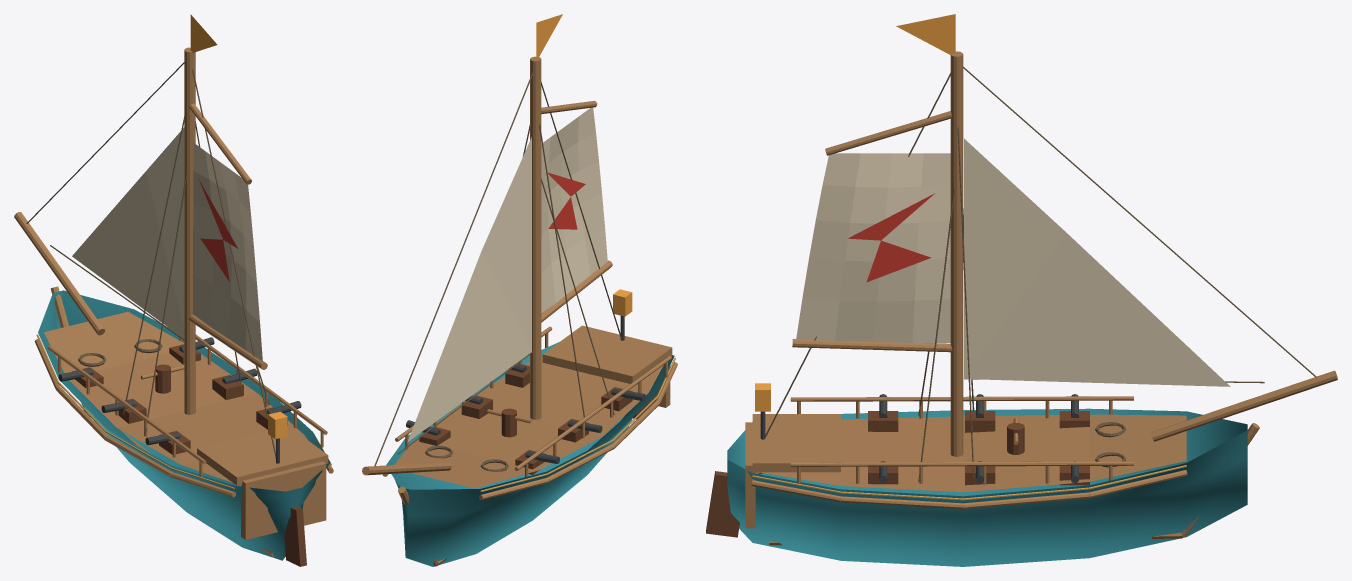
The model's file is caribbean-sloop.glb.
3 views of the same model, side by side, from view 1: azimuth 30°, elevation 25°; view 2: azimuth 150°, elevation 25°; view 3: azimuth 270°, elevation 25° (orthographic). The views are drawn at different scales.
Visible parts, largest first — view 1: Deck_Main, Sail_Jib, Hull, Sail_Main, Deck_Quarter, Mast_Main, Stern_Transom, Bowsprit, Rudder, Rail_Port, Sail_Mark_Port, Rail_Starboard (+12 smaller); view 2: Sail_Jib, Deck_Main, Hull, Sail_Main, Deck_Quarter, Mast_Main, Rail_Port, Sail_Mark_Port, Rig_Forestay, Bowsprit, Boom, Rig_Shroud_Port_1 (+10 smaller); view 3: Hull, Sail_Jib, Sail_Main, Deck_Main, Mast_Main, Deck_Quarter, Sail_Mark_Starboard, Bowsprit, Rail_Starboard, Rail_Port, Rudder, Boom (+6 smaller).
Part boxes in pixels (box(x1,y1,x2,y2)): Deck_Main: box(44, 311, 307, 485); Sail_Jib: box(72, 127, 184, 338); Hull: box(38, 290, 330, 560); Sail_Main: box(193, 142, 262, 361); Deck_Quarter: box(197, 426, 328, 485); Mast_Main: box(184, 47, 195, 414); Stern_Transom: box(241, 461, 326, 539); Bowsprit: box(14, 212, 104, 335); Rudder: box(284, 506, 306, 566); Rail_Port: box(47, 345, 206, 464); Sail_Mark_Port: box(199, 180, 237, 281); Rail_Starboard: box(195, 334, 327, 434); Sail_Jib: box(407, 137, 531, 441); Deck_Main: box(394, 356, 663, 488); Hull: box(386, 342, 674, 566); Sail_Main: box(541, 107, 607, 313); Deck_Quarter: box(542, 325, 672, 383); Mast_Main: box(530, 56, 541, 419); Rail_Port: box(514, 356, 671, 470); Sail_Mark_Port: box(547, 172, 585, 229); Rig_Forestay: box(374, 72, 533, 466); Bowsprit: box(362, 462, 451, 475); Boom: box(541, 260, 612, 322); Rig_Shroud_Port_1: box(539, 123, 585, 422); Hull: box(727, 408, 1247, 566); Sail_Jib: box(964, 138, 1230, 386); Sail_Main: box(796, 153, 950, 343); Deck_Main: box(760, 414, 1186, 492); Mast_Main: box(950, 51, 963, 456); Deck_Quarter: box(752, 414, 840, 472); Sail_Mark_Starboard: box(848, 193, 934, 282); Bowsprit: box(1151, 370, 1337, 441); Rail_Starboard: box(790, 461, 1133, 466); Rail_Port: box(790, 396, 1133, 401); Rudder: box(706, 471, 739, 537); Boom: box(792, 339, 952, 352).
Size of the model in its own units: 5.04 by 14.48 by 15.
